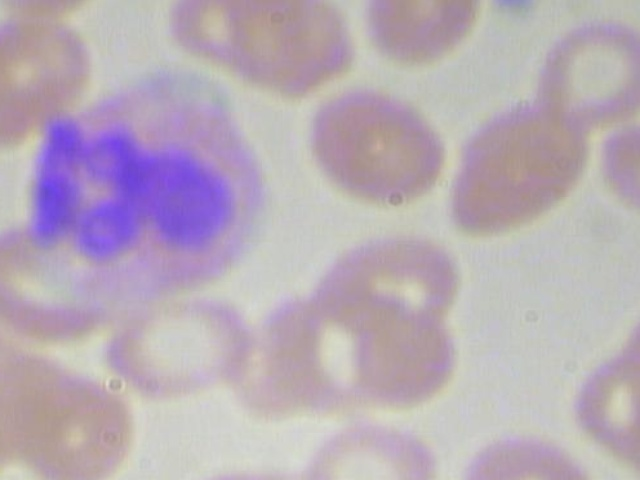RBC: (432, 89, 603, 243), (294, 86, 457, 218), (100, 283, 259, 405), (511, 10, 640, 128), (0, 9, 99, 155), (288, 411, 442, 480), (450, 423, 604, 480)
WBC: (20, 65, 287, 306)
